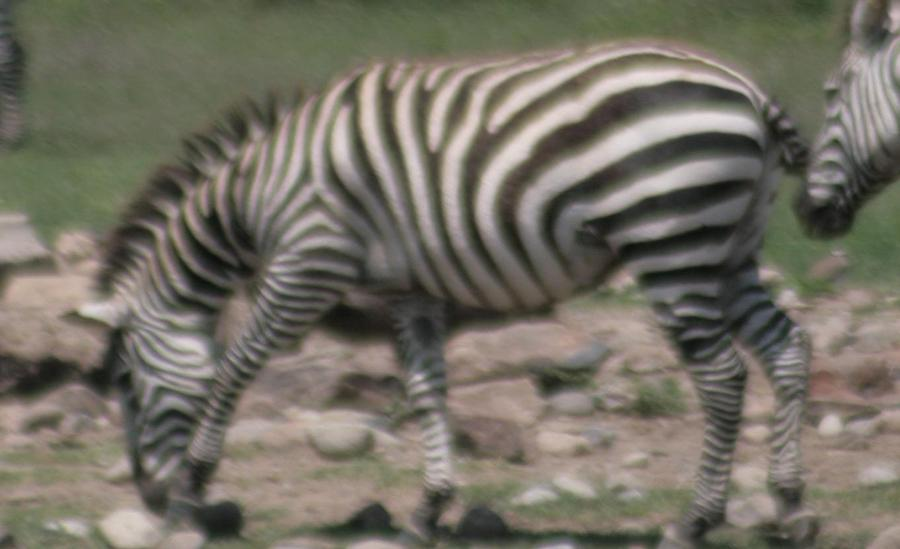zebra_plains: (215, 36, 793, 350)
